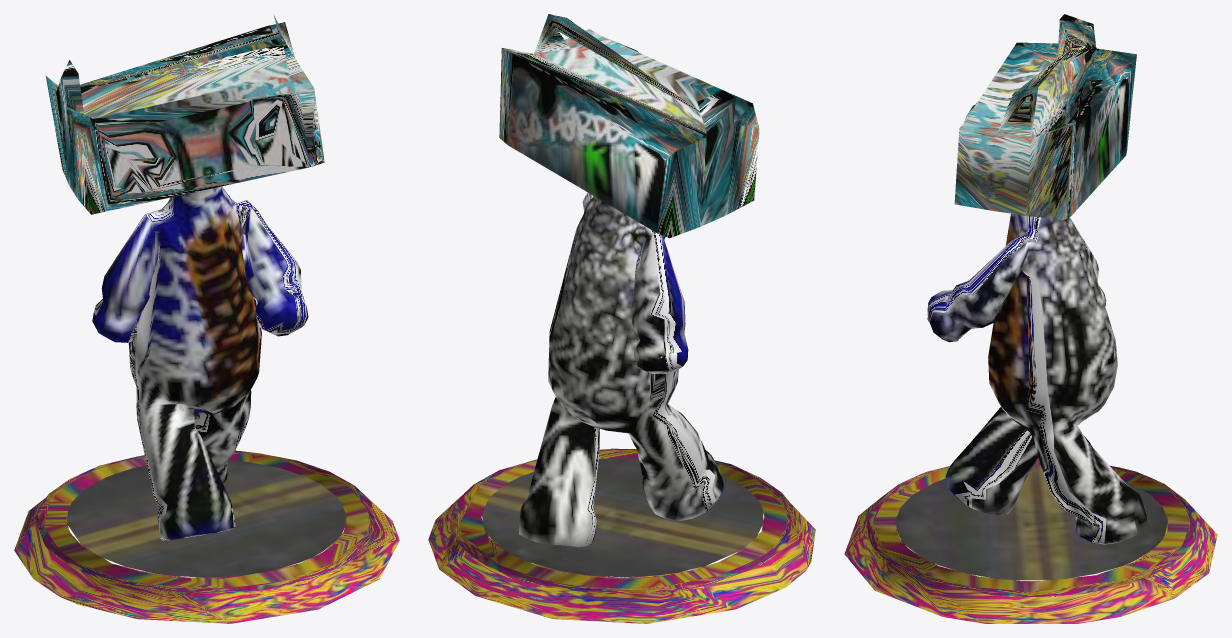
The picture shows the model from 3 angles, left to right: view 1: azimuth 30°, elevation 25°; view 2: azimuth 150°, elevation 25°; view 3: azimuth 270°, elevation 25°; orthographic projection. The views are drawn at different scales.
Bounding box in the file's own units: 1.42 × 2.11 × 1.44.
Materials: 4 (4 with a texture image).
